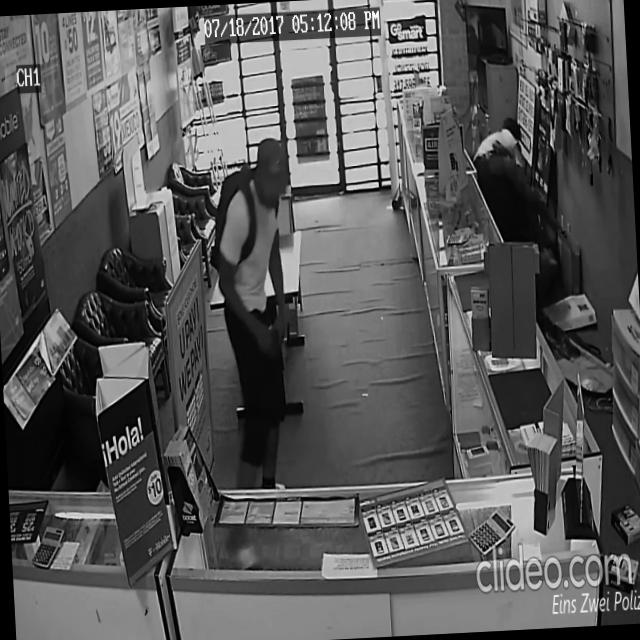gun: (264, 328, 286, 378)
person: (470, 111, 540, 273)
person with a gun: (206, 133, 309, 520)
